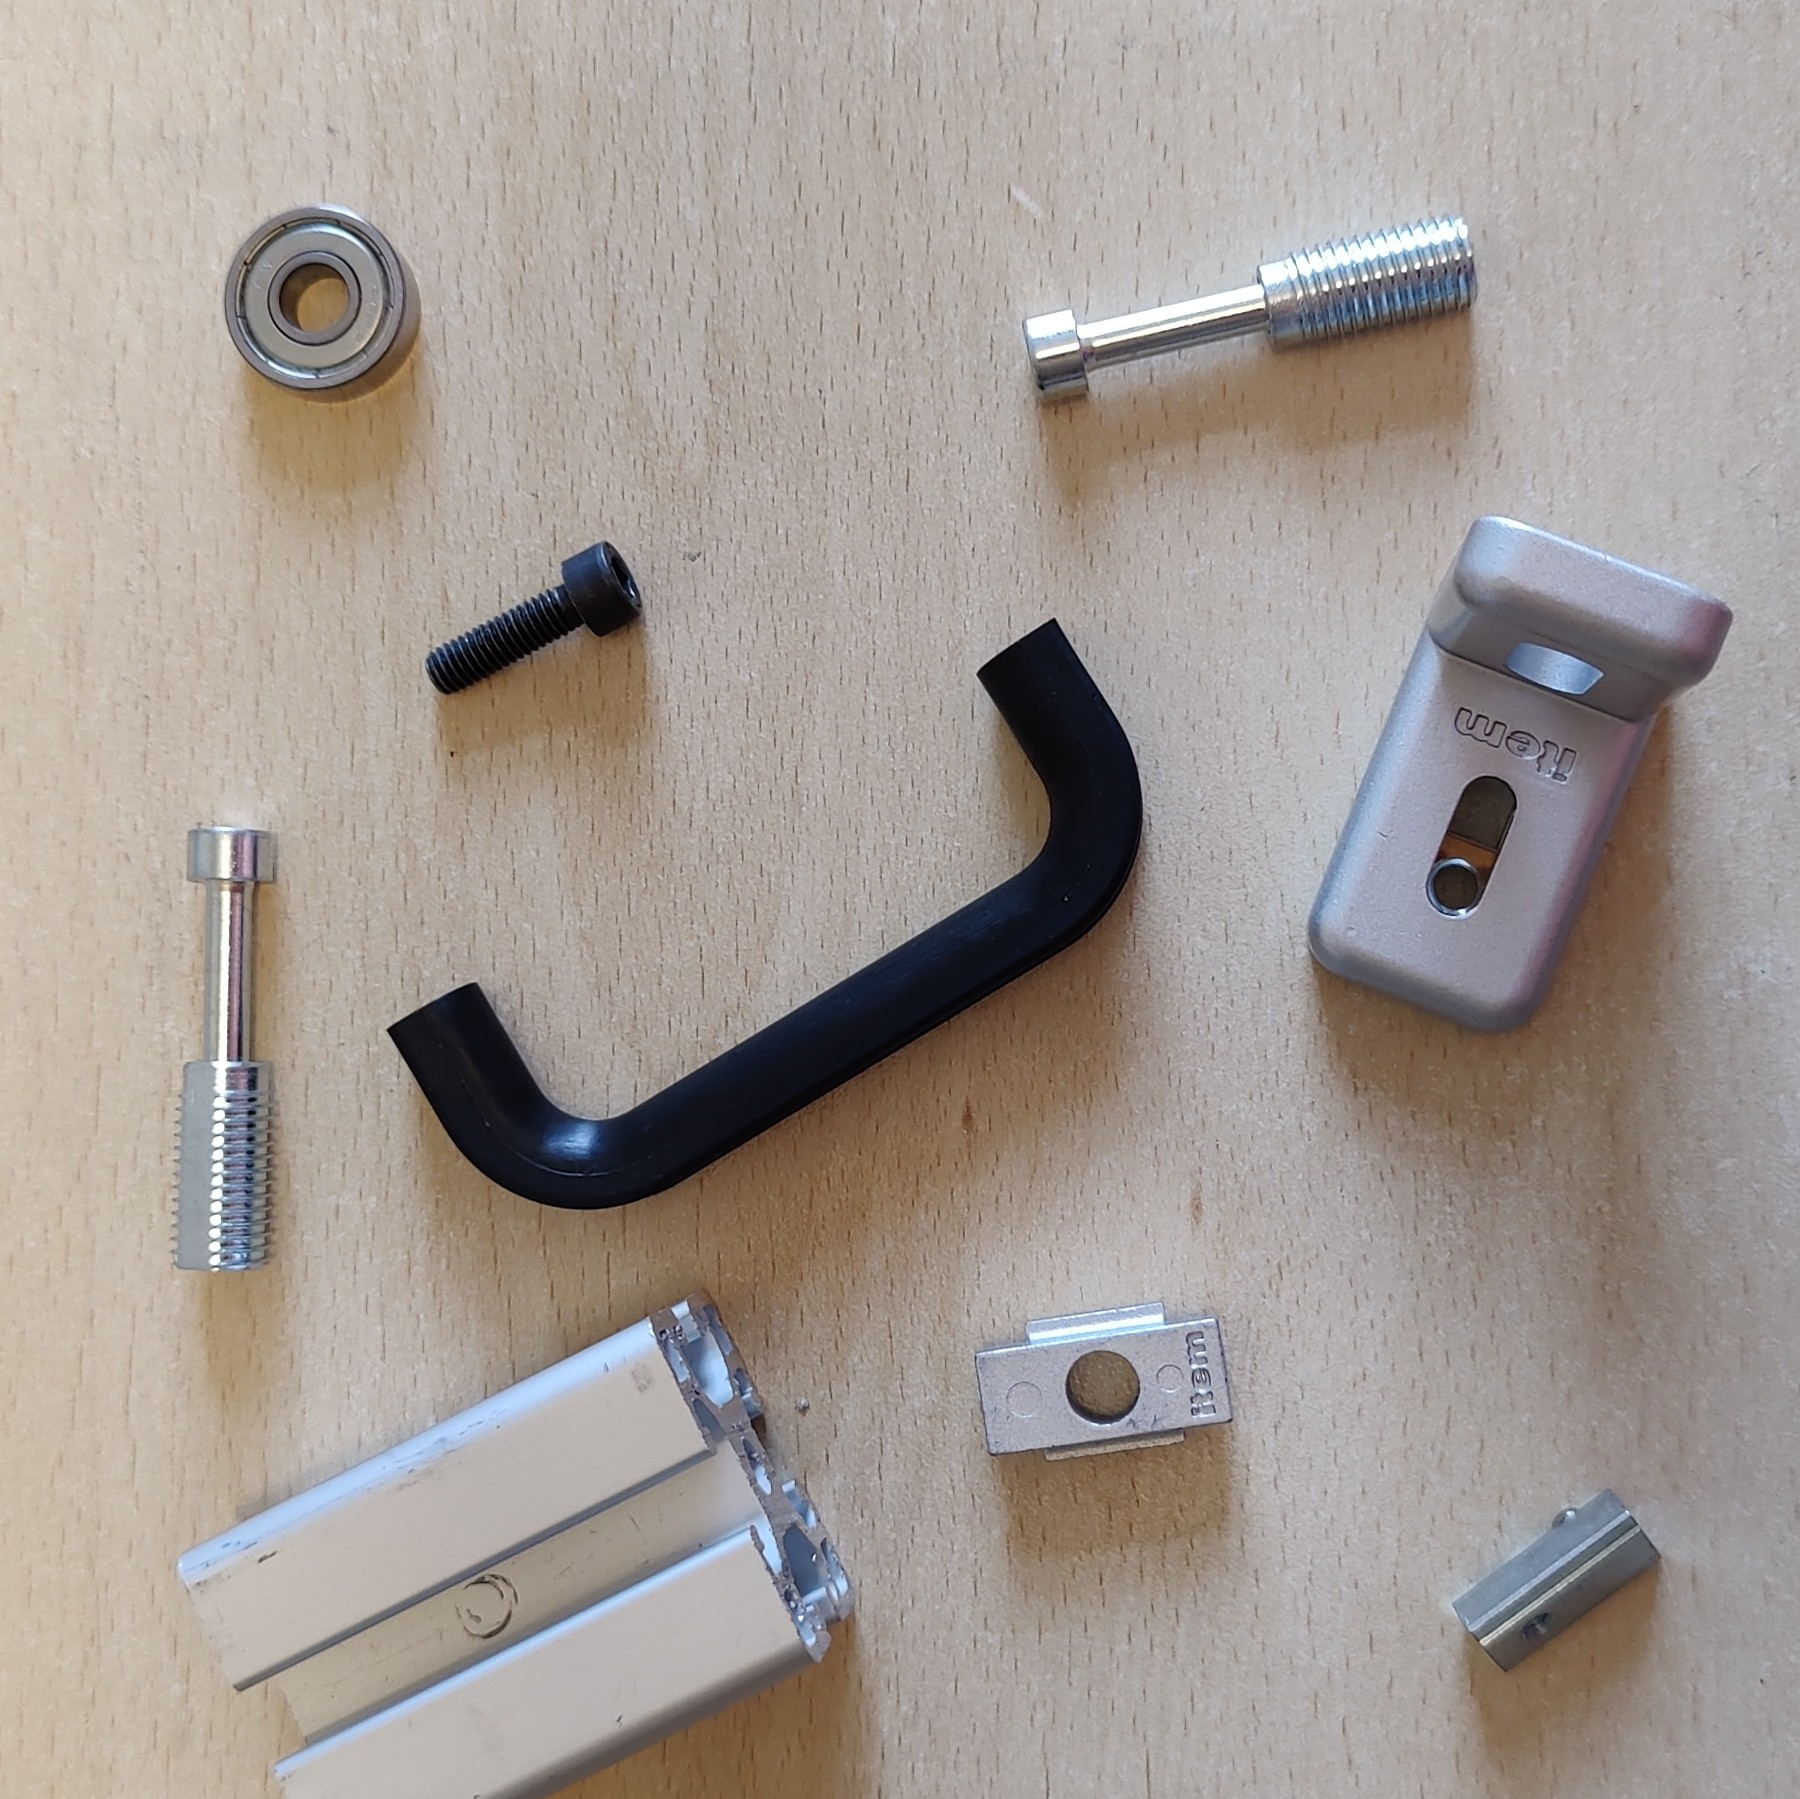Aluminium Extension: (178, 1283, 858, 1799)
Ball Bearing: (222, 203, 422, 404)
Multiwinkel: (1303, 512, 1734, 1035)
Pull Handle: (385, 613, 1146, 1213)
Shoulder Socket Head Cap Screw: (1019, 204, 1485, 417), (166, 820, 283, 1278)
Socket Head Cap Screw: (423, 535, 642, 700)
T Nut Square: (972, 1297, 1240, 1470)
T Spring Nut: (1451, 1479, 1665, 1679)
